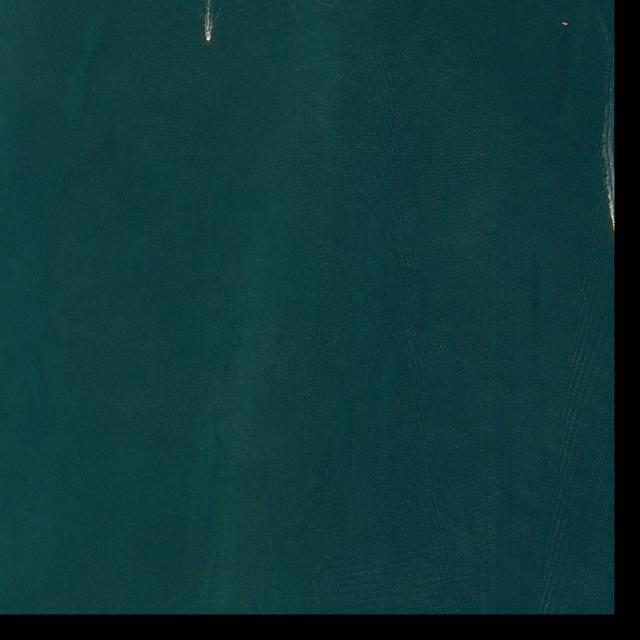ship: (205, 31, 212, 42), (562, 22, 568, 26)
